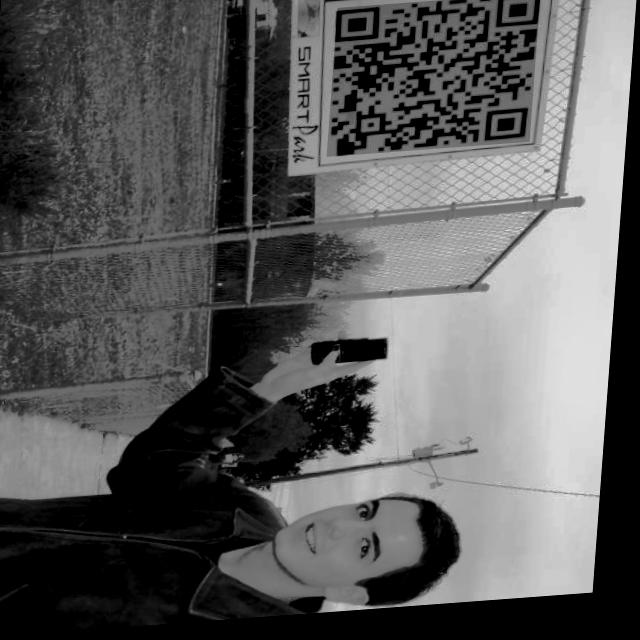qr_code: (328, 1, 540, 162)
